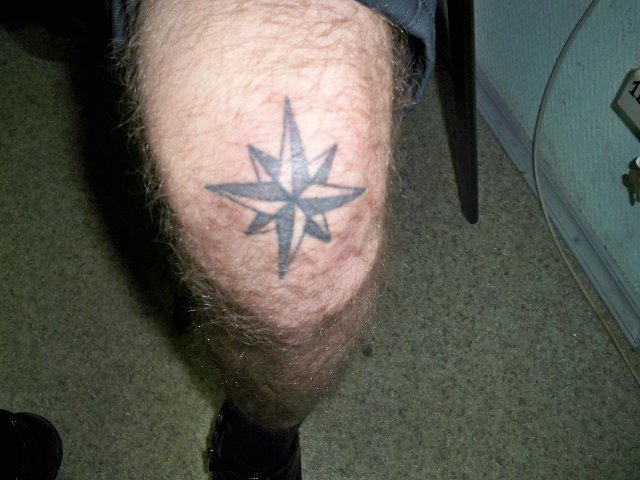tatu4_zvezda: (199, 95, 366, 282)
